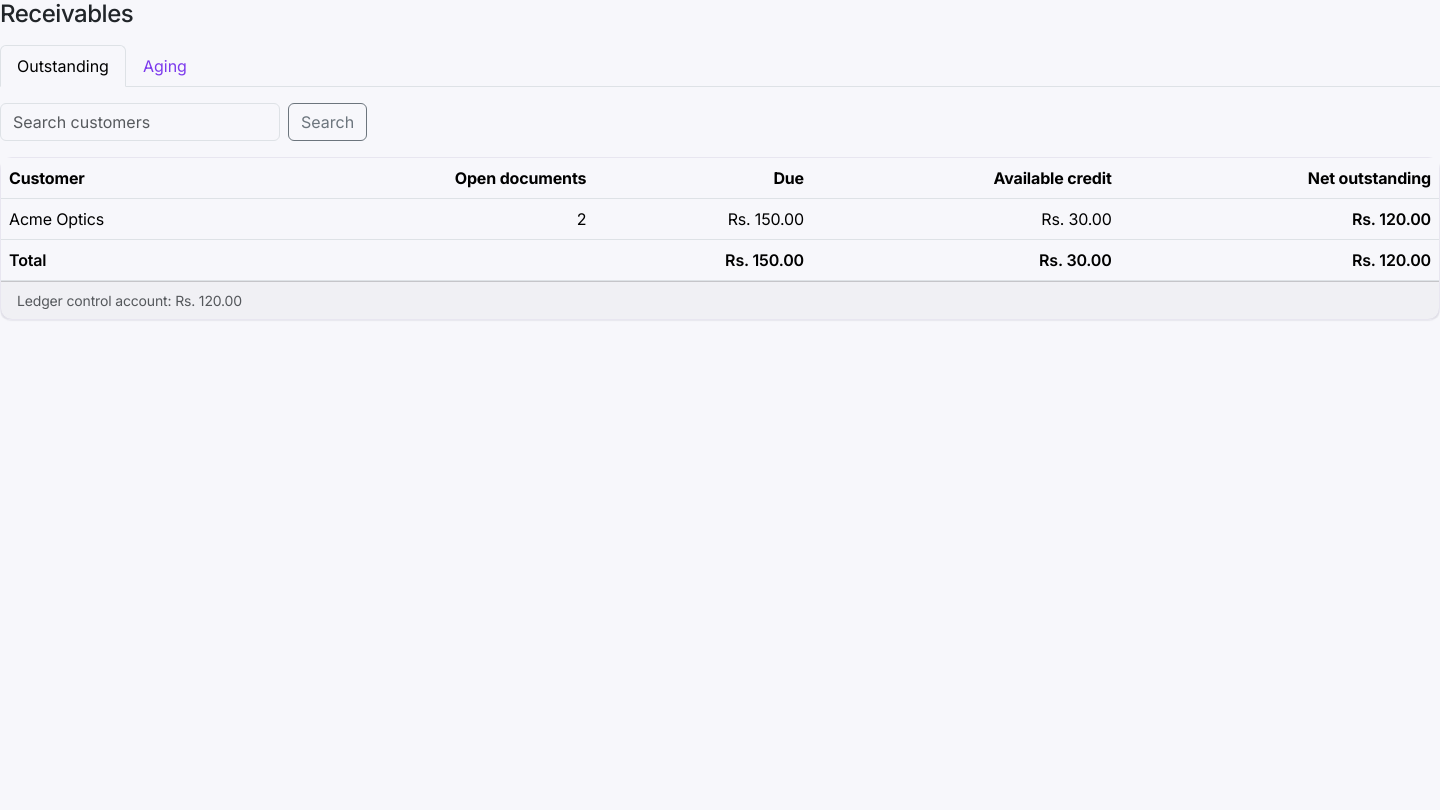
PartyBalances (Receivables / Payables) › users without PAYMENT:CREATE see the balances but no allocation controls
The image size is (1440, 810).
Click the text "Acme Optics" at (128, 219), box top-left (1, 198), bottom-right (256, 239)
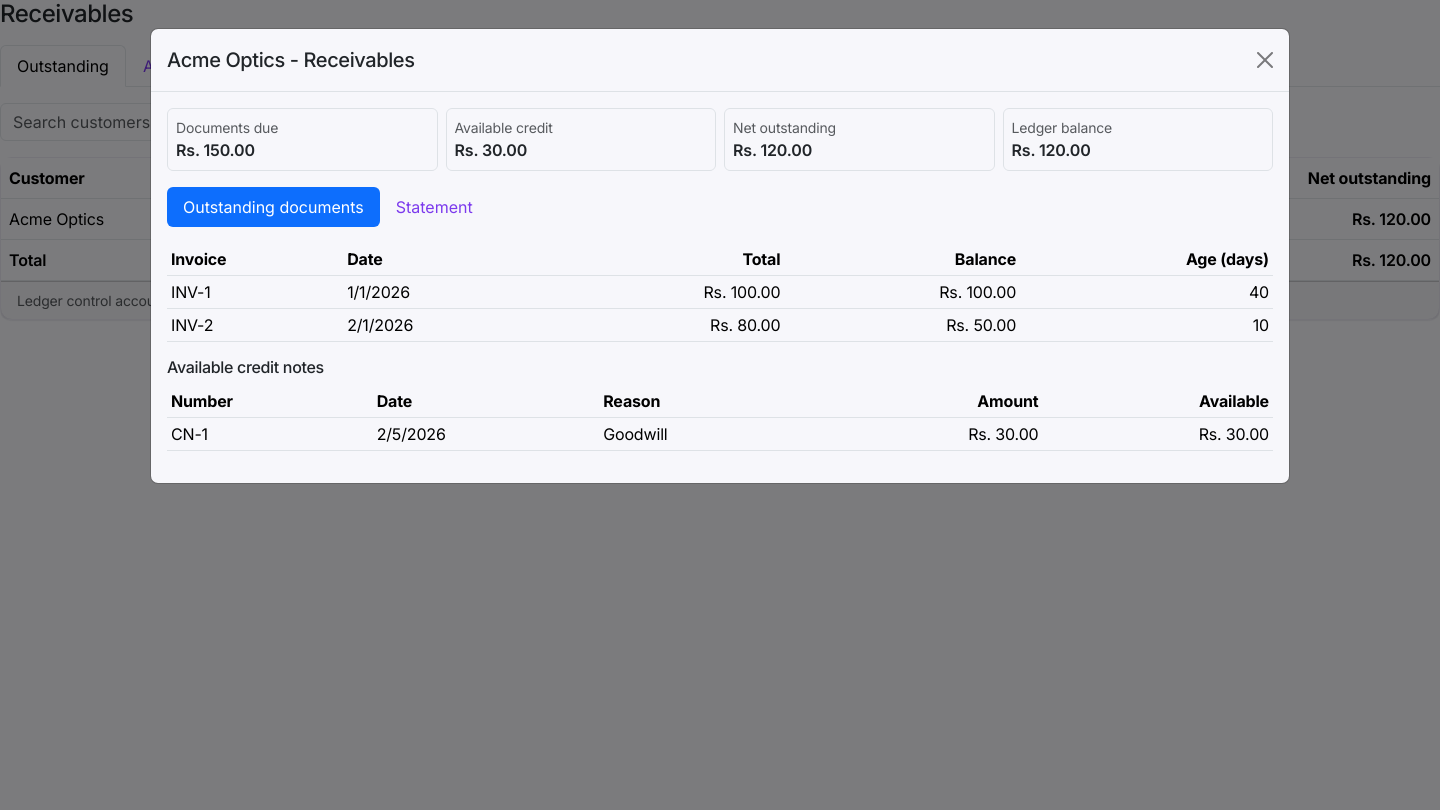
Expected: the text "INV-1" is shown, top-left (167, 276), bottom-right (343, 308)
